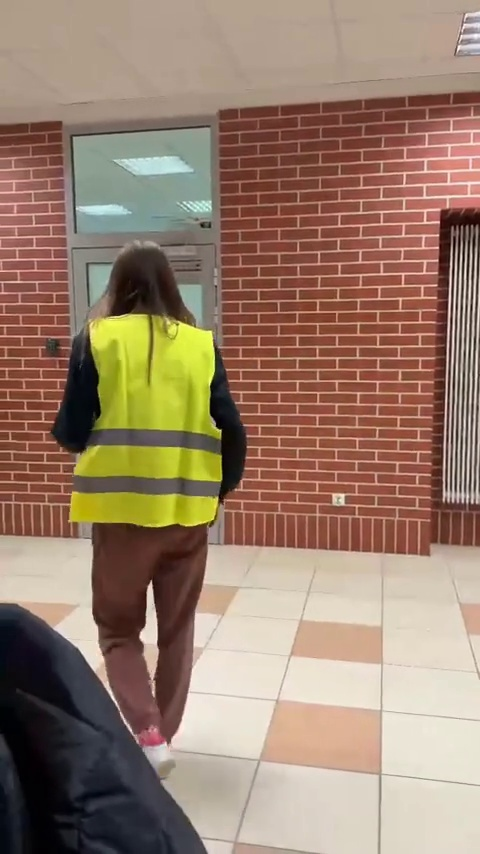vest: (49, 240, 253, 780)
